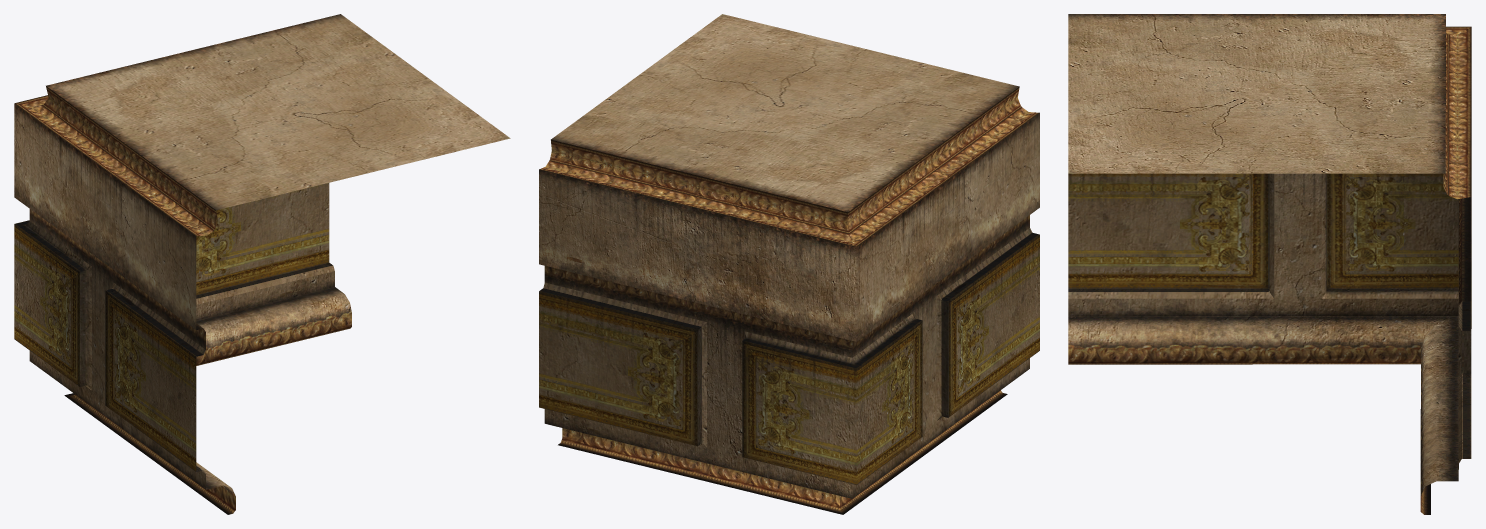
The model's file is corner_concave_short.dae.
3 renders of one model, left to right at view 1: azimuth 30°, elevation 25°; view 2: azimuth 150°, elevation 25°; view 3: azimuth 270°, elevation 25°, orthographic. The views are drawn at different scales.
Parts seen in each view (by area): view 1: corner_concave_short; view 2: corner_concave_short; view 3: corner_concave_short.
Boxes of the visible parts, <box> form: corner_concave_short: <box>14,14,510,514</box>; corner_concave_short: <box>539,14,1039,514</box>; corner_concave_short: <box>1068,14,1471,514</box>.
Size of the model in its own units: 2 by 1.87 by 2.
